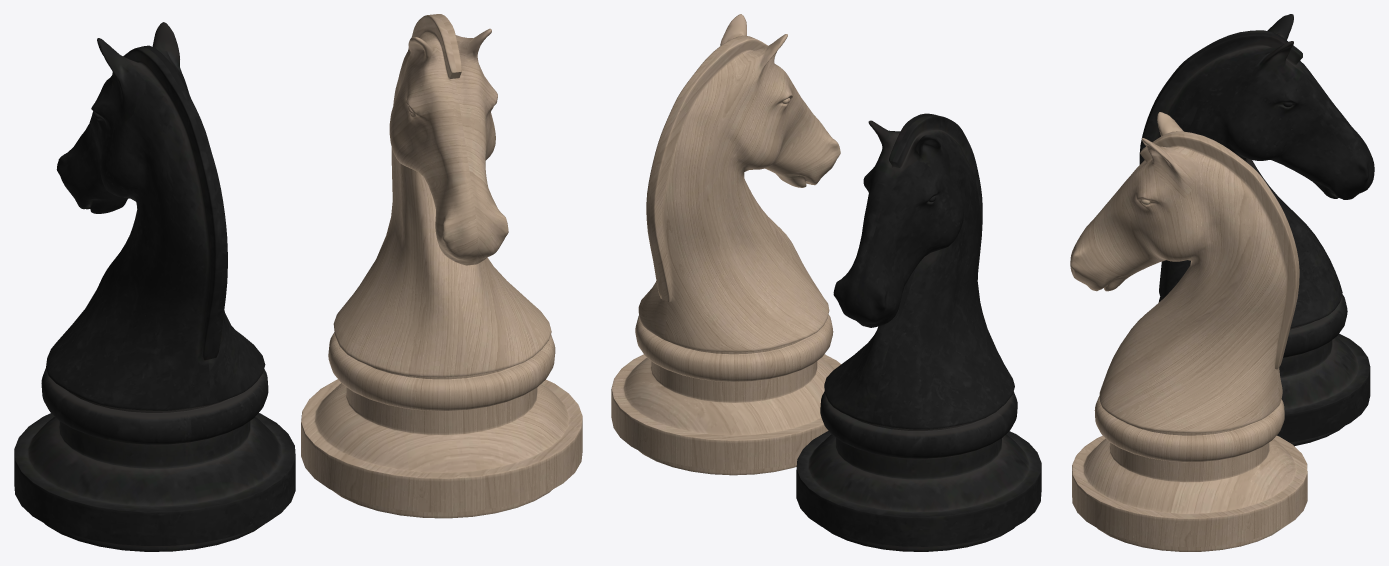
The model's file is knights.glb.
3 views of the same model, side by side, from view 1: azimuth 30°, elevation 25°; view 2: azimuth 150°, elevation 25°; view 3: azimuth 270°, elevation 25° (orthographic). The views are drawn at different scales.
Visible parts, largest first — view 1: Horse_Black, Horse_White; view 2: Horse_White, Horse_Black; view 3: Horse_White, Horse_Black.
Boxes of the visible parts, x1,y1,x2,y2 form: Horse_Black: [14, 22, 295, 551]; Horse_White: [301, 14, 582, 518]; Horse_White: [611, 14, 841, 475]; Horse_Black: [796, 113, 1041, 551]; Horse_White: [1070, 112, 1307, 551]; Horse_Black: [1139, 14, 1374, 446].
Size of the model in its own units: 0.126 by 0.1102 by 0.0803.
2 materials, 2 textured.
